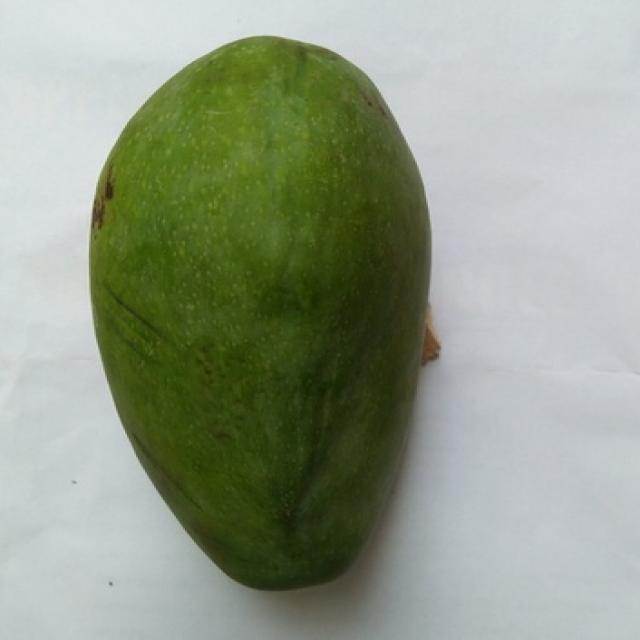Mango: (91, 37, 426, 589)
